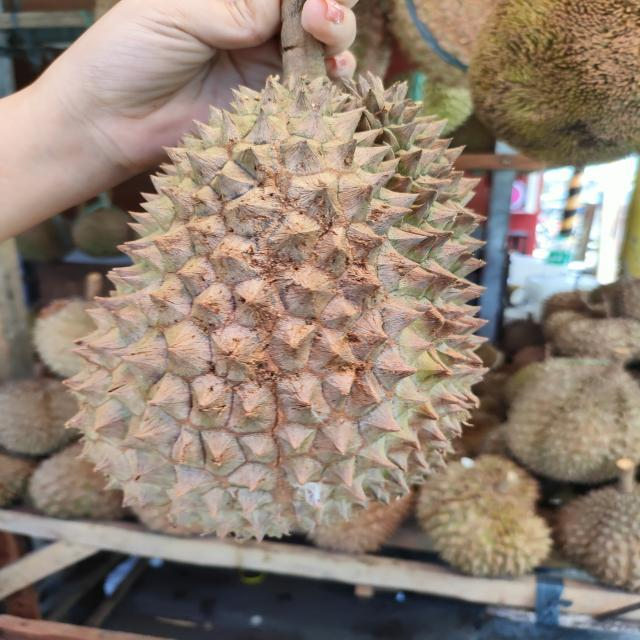mature: (50, 71, 489, 549)
